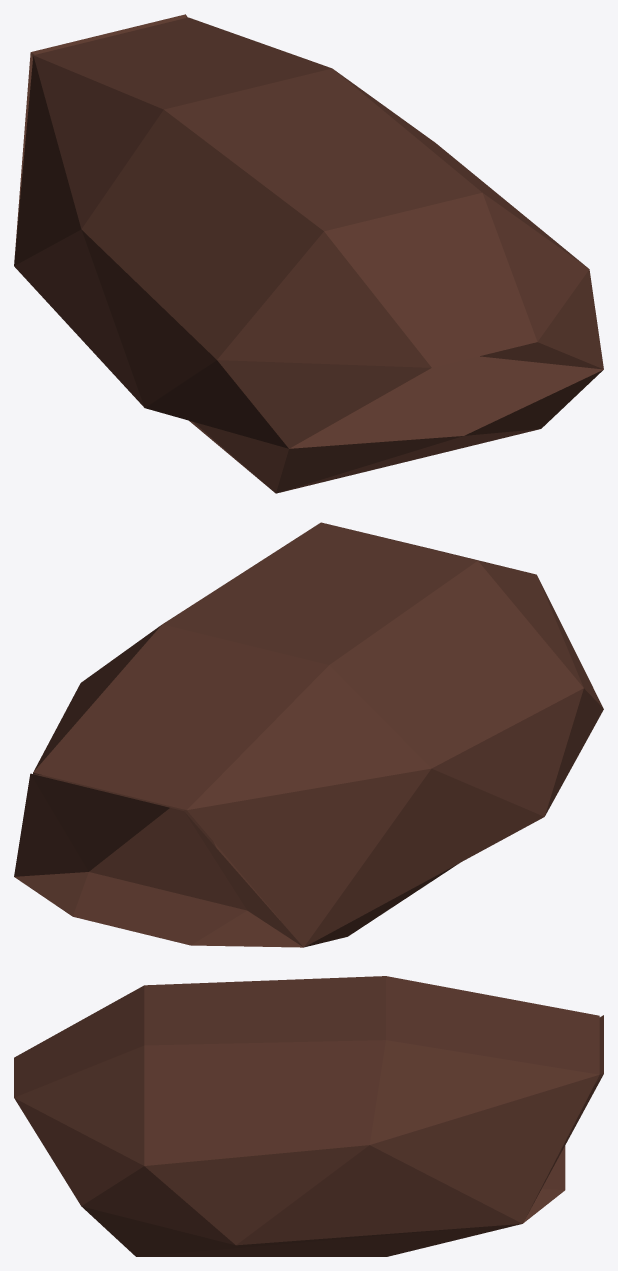
Rendered from ITAT_MEATBUG_01.OBJ.
3 renders of one model, top to bottom at view 1: azimuth 30°, elevation 25°; view 2: azimuth 150°, elevation 25°; view 3: azimuth 270°, elevation 25°, orthographic. The views are drawn at different scales.
Visible parts, largest first — view 1: ITAT_MEATBUG_01; view 2: ITAT_MEATBUG_01; view 3: ITAT_MEATBUG_01.
Boxes of the visible parts, left/top/right/bottom form: ITAT_MEATBUG_01: left=14, top=14, right=603, bottom=493; ITAT_MEATBUG_01: left=14, top=522, right=603, bottom=947; ITAT_MEATBUG_01: left=14, top=976, right=603, bottom=1256.
Bounding box in the file's own units: 0.2004 × 0.1267 × 0.3233.
